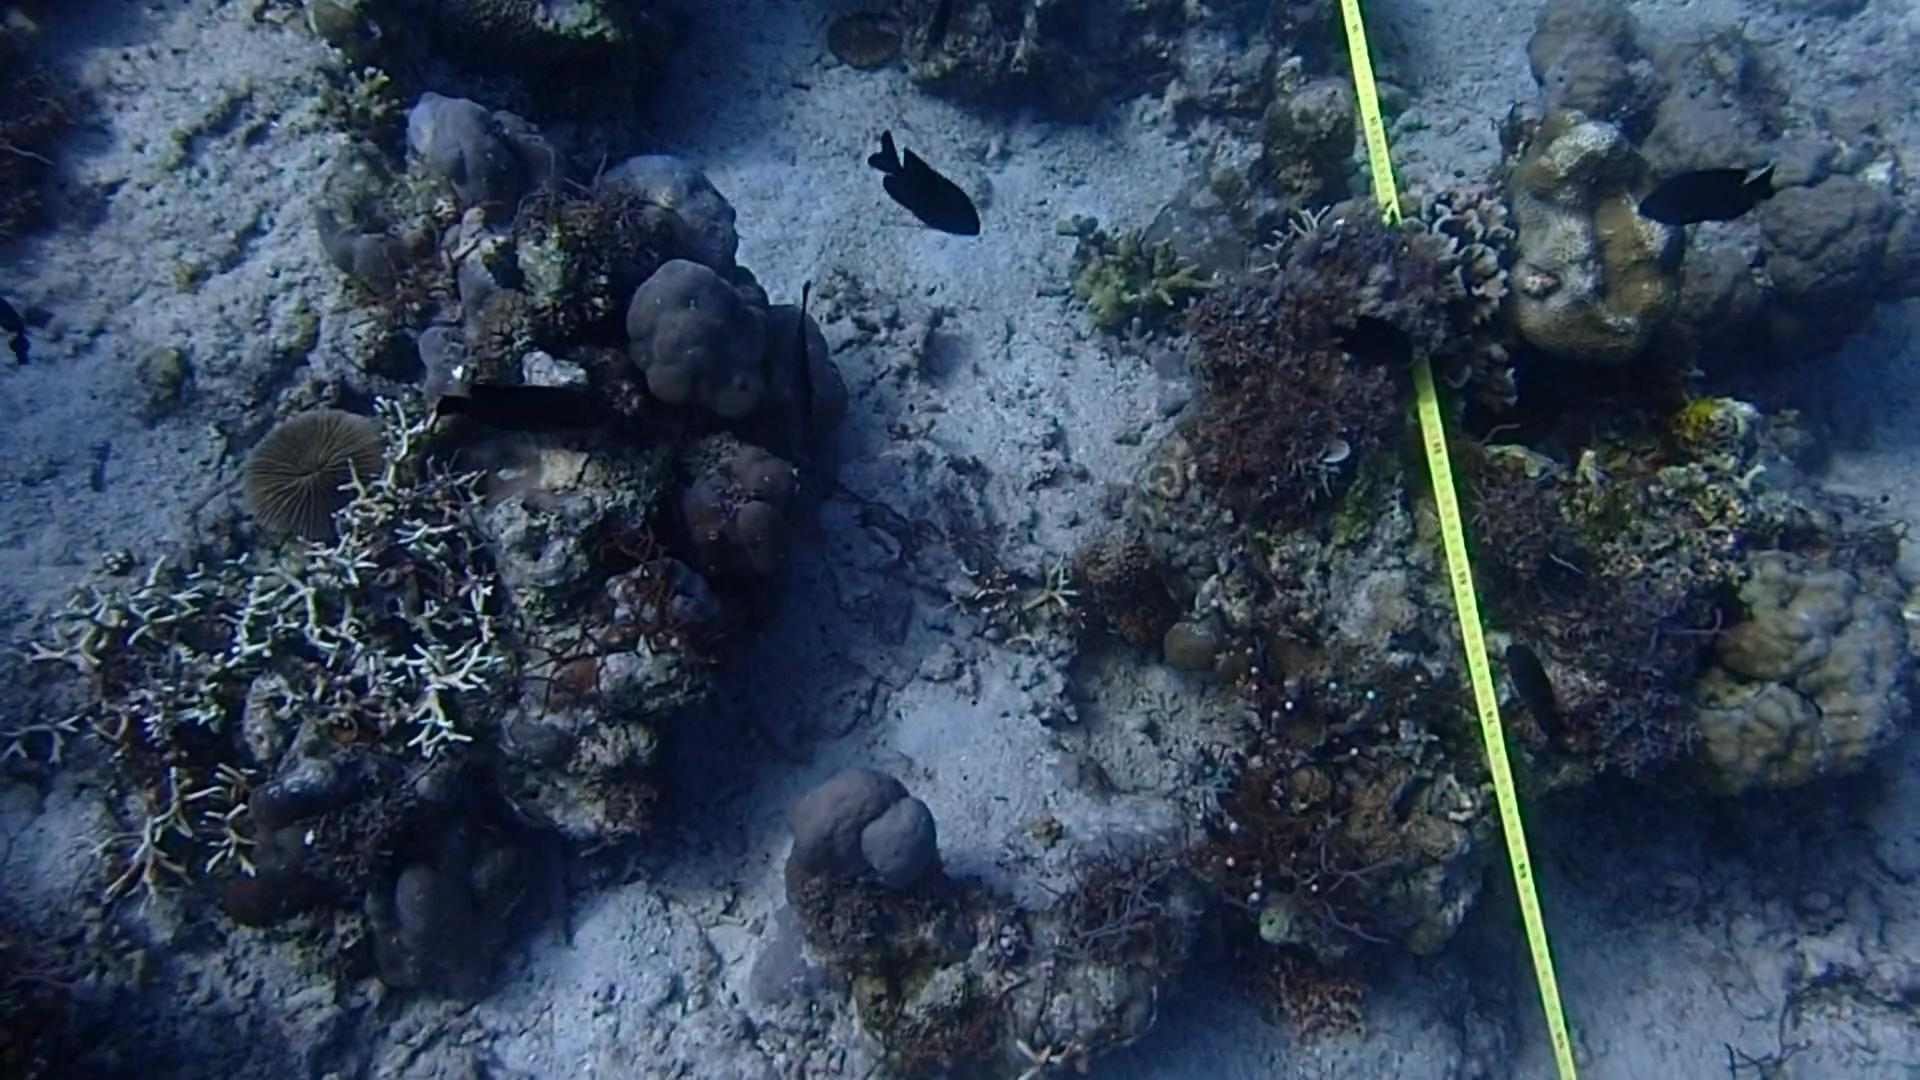Dark Fish: (413, 356, 629, 459), (861, 116, 1000, 260), (1629, 142, 1791, 245), (770, 262, 833, 433), (1493, 618, 1575, 745), (1317, 306, 1439, 390)
